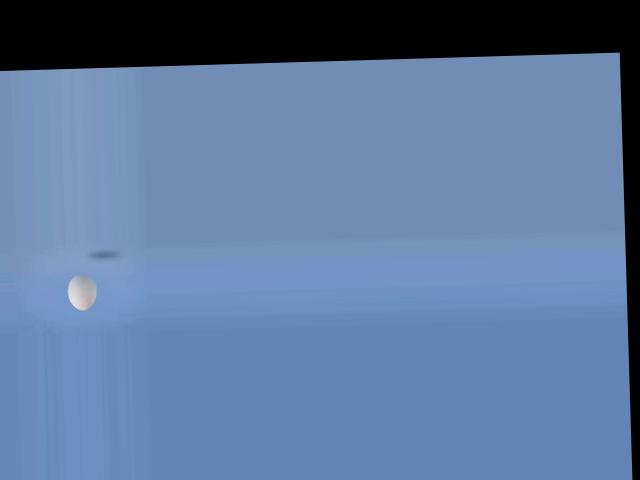egg: (66, 273, 97, 310)
